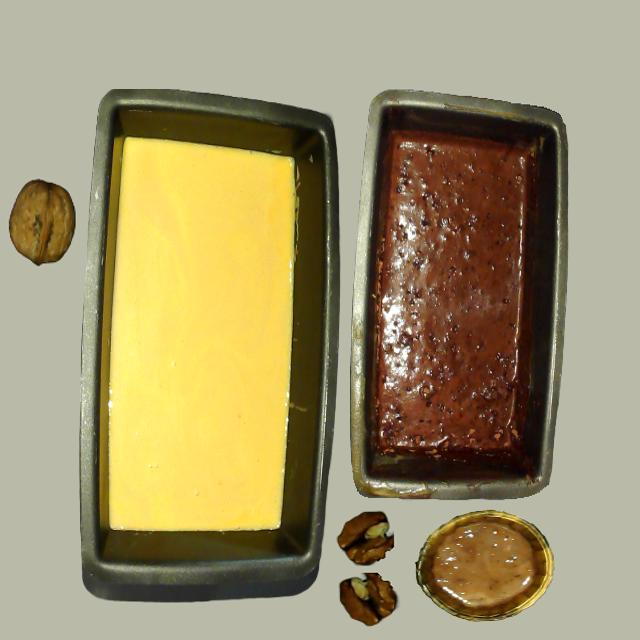Walnut: (8, 169, 84, 292), (4, 177, 78, 267)
